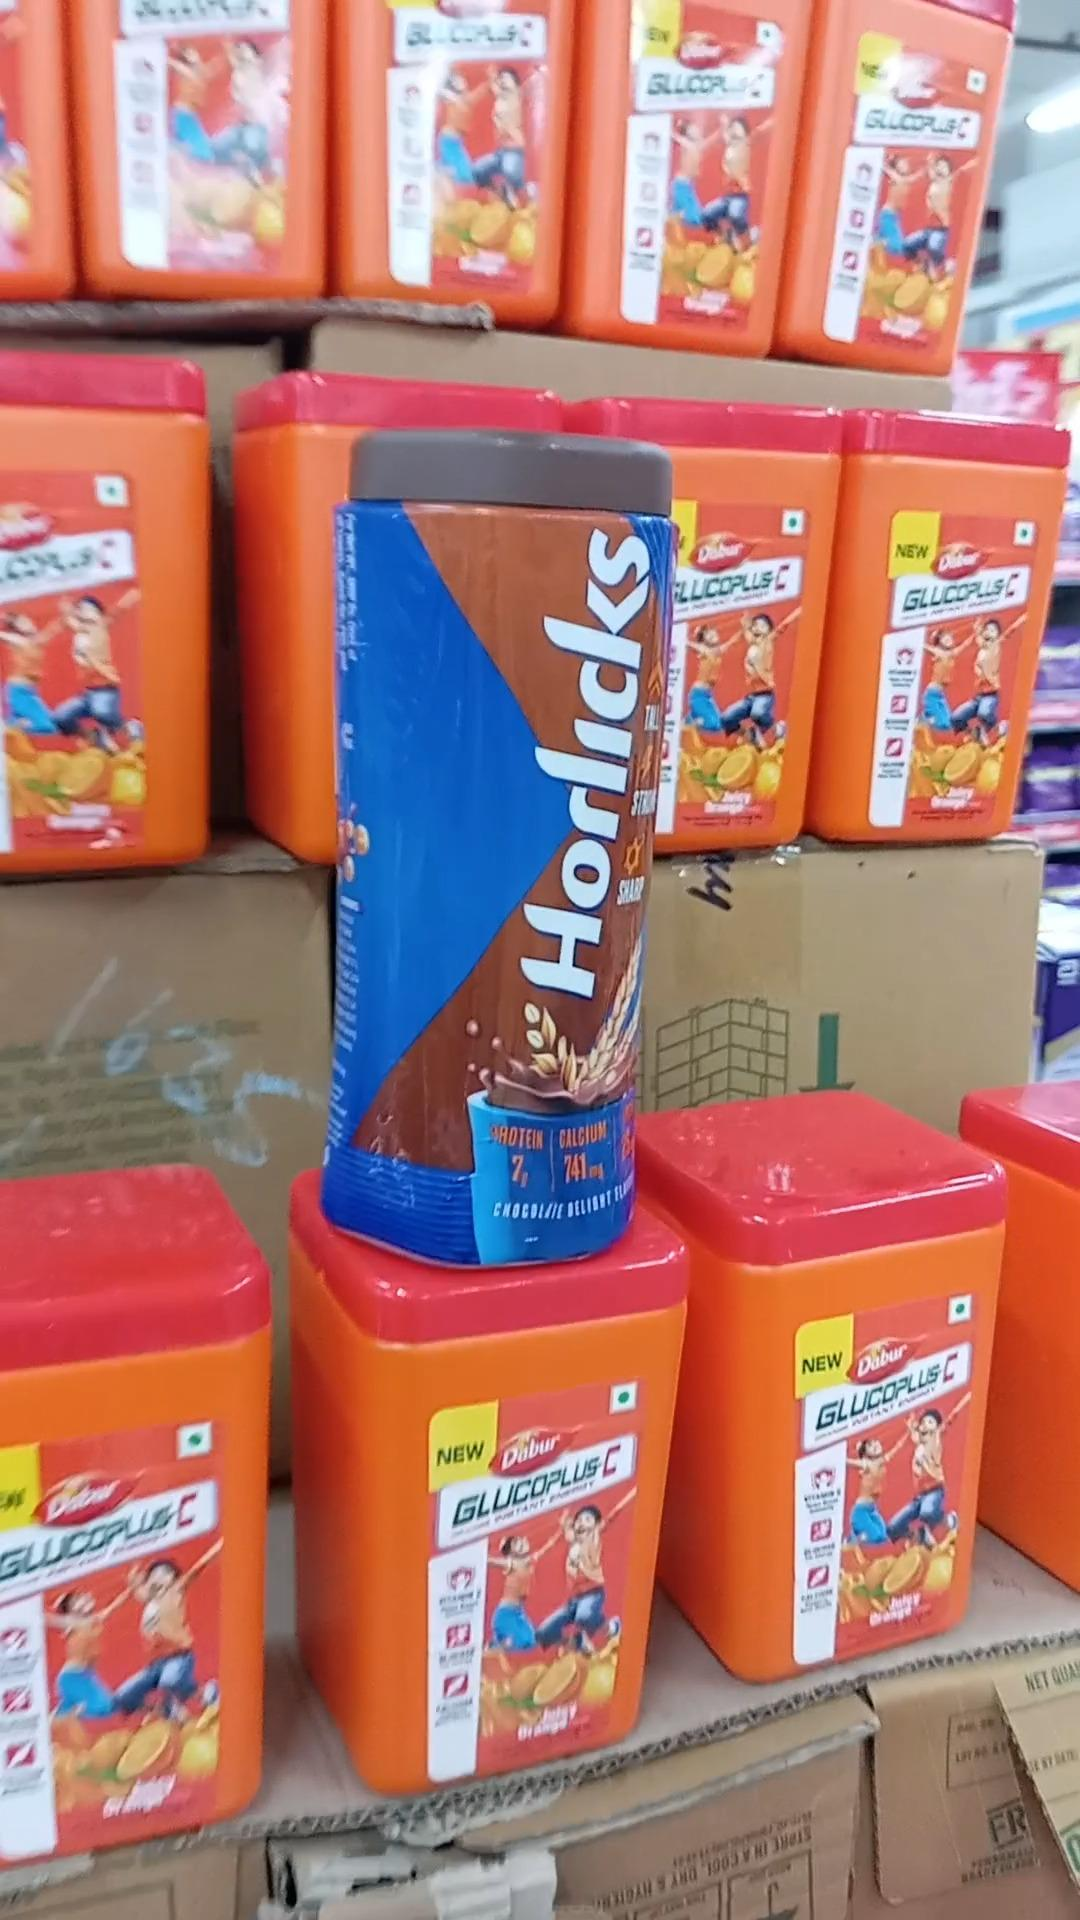HORLICK_CHOCOLATE_1_KG_JAR: (324, 433, 659, 1267)
